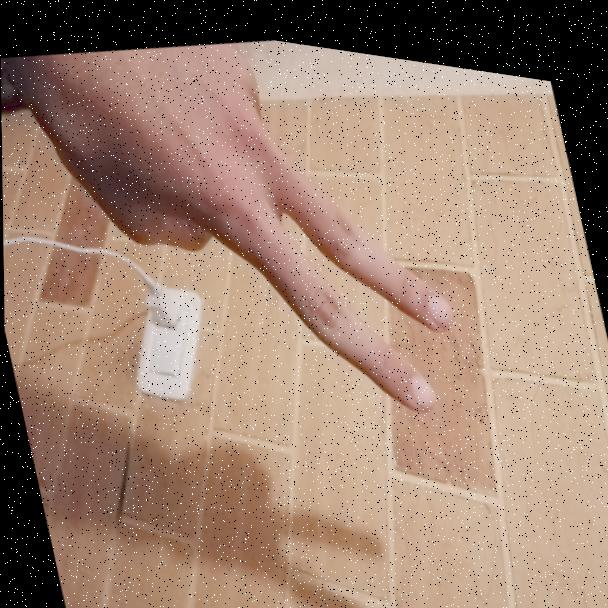two: (38, 4, 472, 471)
